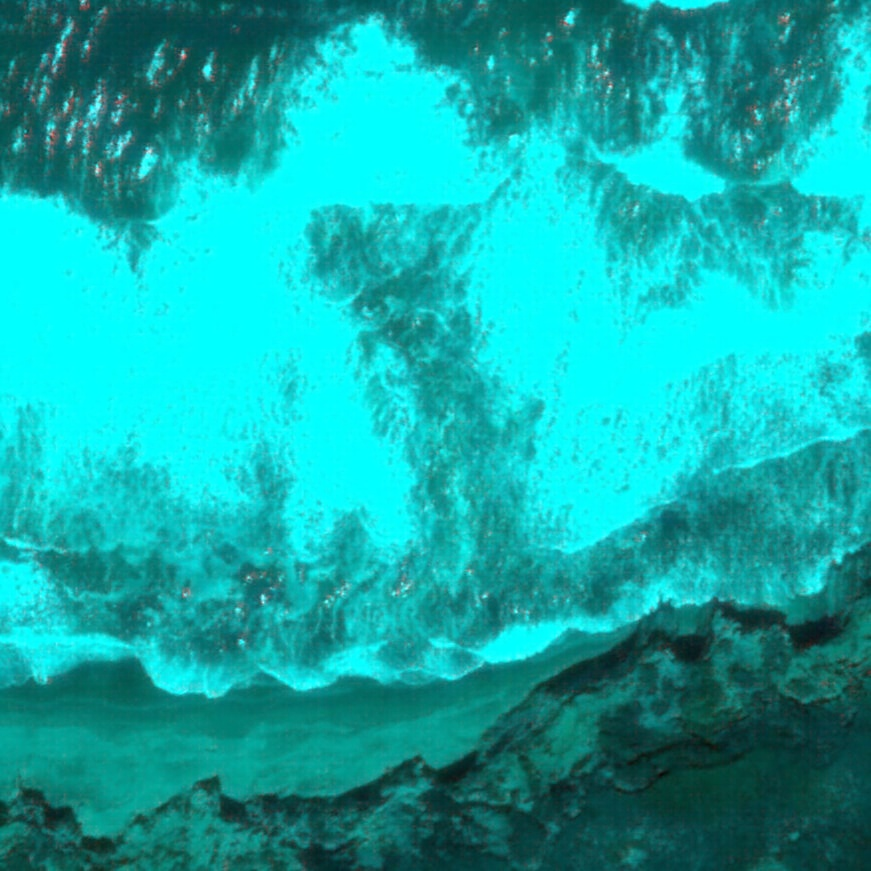rip_current: (225, 180, 584, 581)
